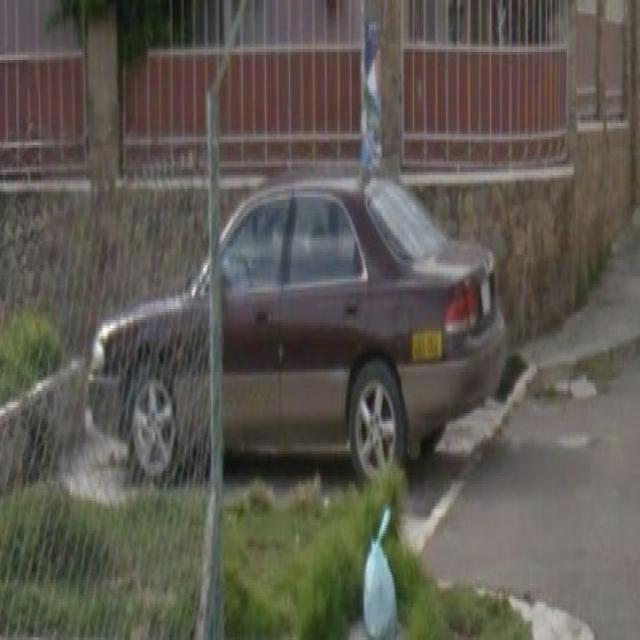Car: (92, 202, 510, 490)
